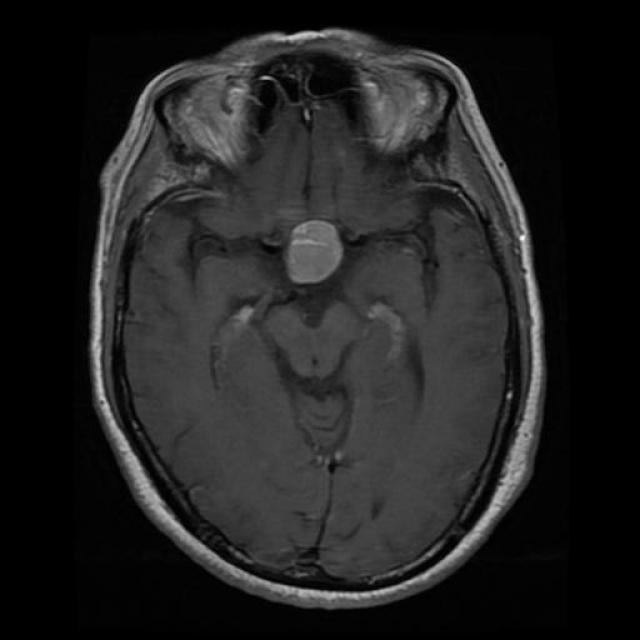Brain-Tumor: (266, 203, 363, 294)
eye: (336, 46, 481, 184), (146, 59, 282, 184)
